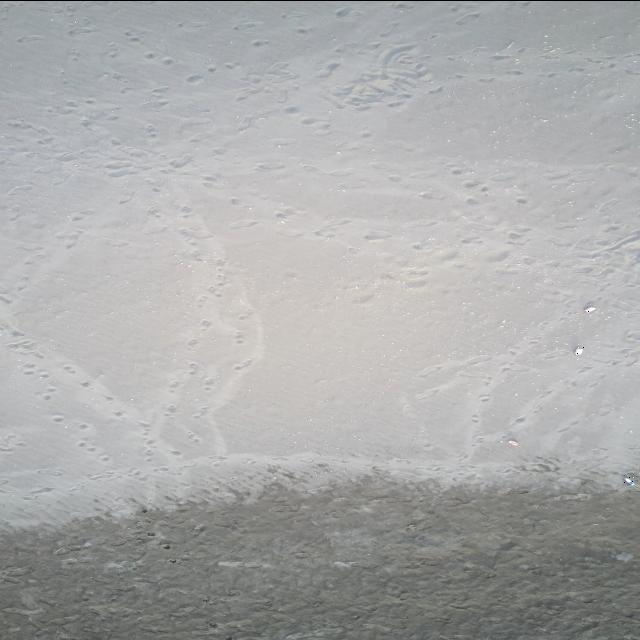Garbage: (624, 472, 635, 486), (573, 344, 583, 355), (584, 304, 595, 312)
